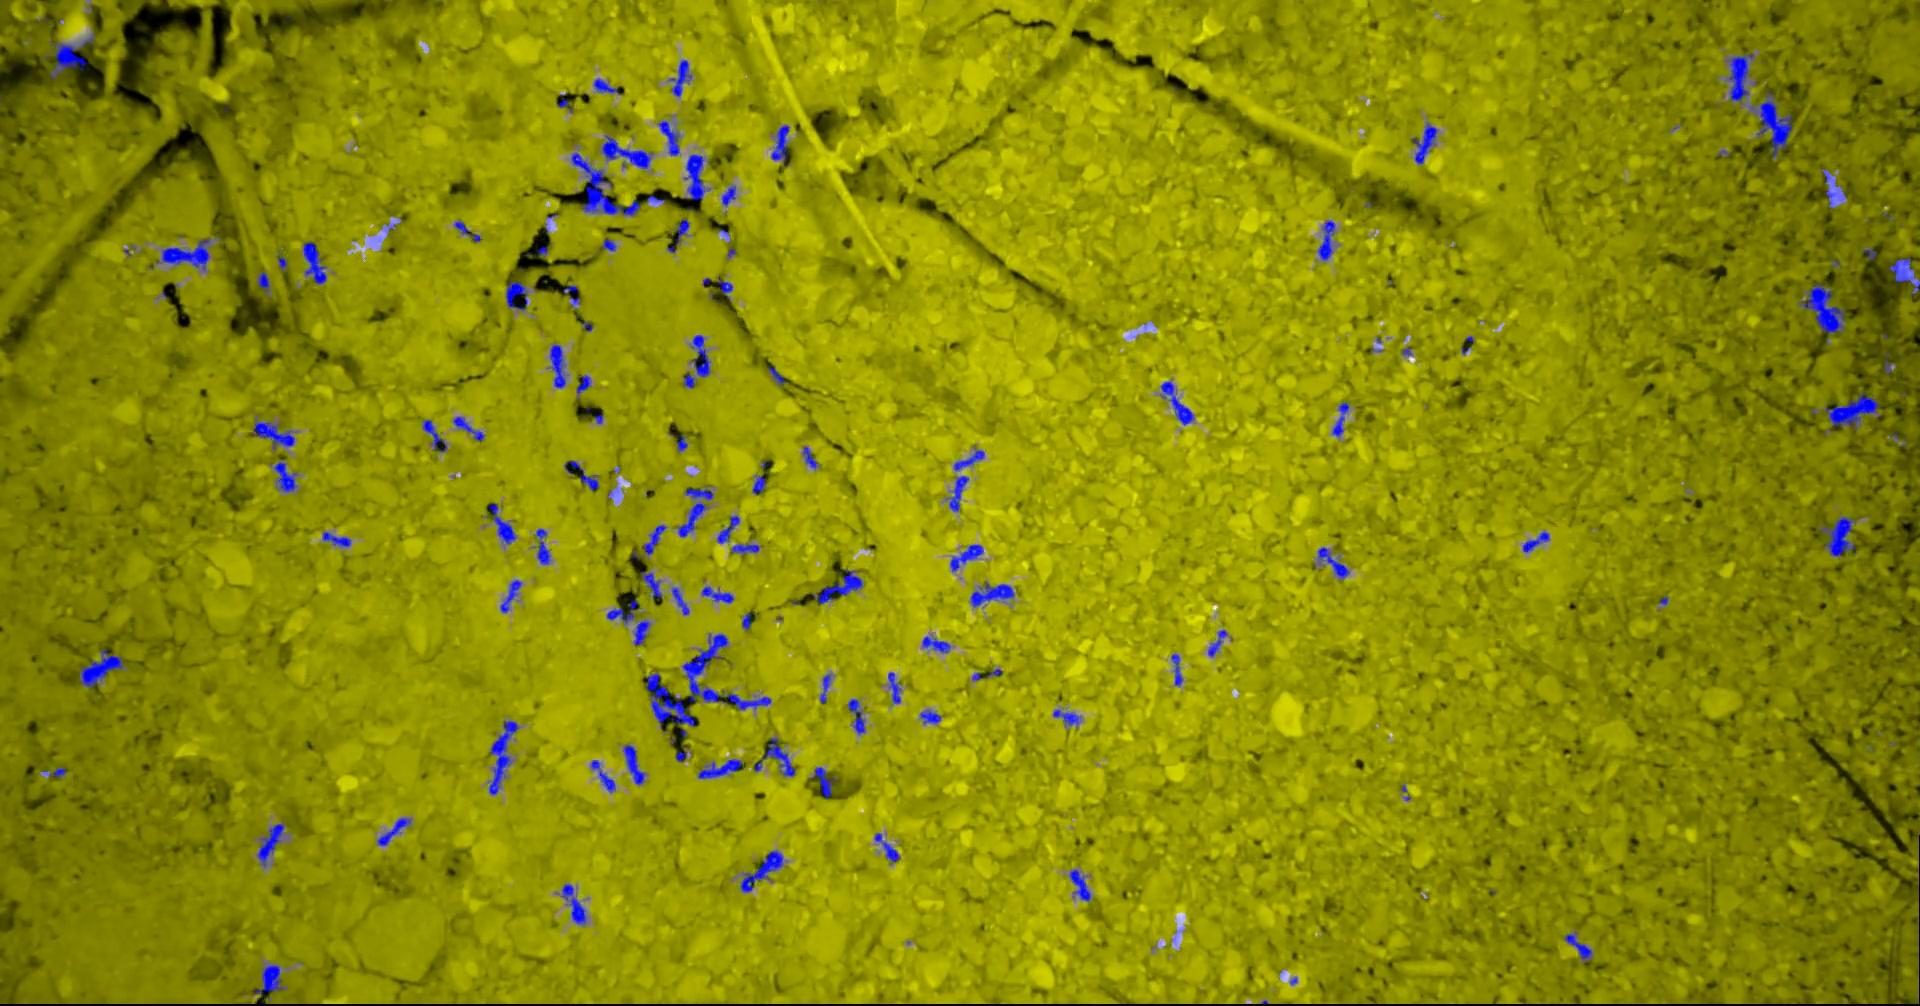ant: (1749, 91, 1792, 158), (1799, 285, 1845, 343), (488, 720, 519, 794), (50, 30, 94, 77), (1823, 392, 1878, 429), (811, 567, 862, 603), (79, 649, 124, 688), (740, 850, 782, 892), (157, 238, 210, 271), (601, 135, 651, 168), (1818, 516, 1855, 556), (1159, 381, 1192, 426), (761, 737, 795, 776), (257, 823, 284, 868), (1727, 53, 1752, 102), (970, 580, 1015, 607), (253, 420, 295, 448), (683, 154, 709, 199), (488, 502, 516, 542), (1888, 257, 1919, 293), (1411, 122, 1437, 163), (564, 460, 598, 490), (1317, 546, 1349, 578), (561, 883, 585, 923), (677, 503, 706, 536), (303, 241, 326, 283), (949, 544, 983, 572), (376, 817, 410, 845), (253, 964, 283, 995), (697, 758, 742, 779), (811, 766, 838, 799), (668, 58, 691, 97), (690, 334, 710, 376), (622, 744, 644, 784), (1563, 932, 1591, 962), (270, 461, 297, 492), (945, 475, 968, 511), (590, 760, 615, 793), (874, 832, 899, 862), (658, 119, 679, 155), (422, 419, 446, 451), (952, 446, 984, 470), (606, 600, 639, 622), (452, 417, 484, 439), (1317, 220, 1335, 260), (549, 344, 565, 387), (499, 579, 521, 612), (1068, 869, 1090, 901), (643, 525, 665, 554), (716, 514, 739, 542), (771, 124, 789, 160), (505, 281, 527, 310), (1331, 401, 1349, 436), (533, 528, 550, 564), (847, 699, 863, 734), (455, 220, 480, 243), (1523, 531, 1549, 553), (640, 570, 662, 597), (1821, 168, 1835, 208), (701, 586, 733, 602), (670, 587, 690, 614), (1208, 629, 1227, 655), (593, 77, 623, 94), (632, 619, 650, 645), (1051, 709, 1079, 725), (321, 531, 350, 546), (922, 636, 950, 652), (1170, 653, 1182, 685), (674, 218, 690, 244), (888, 672, 900, 702), (716, 276, 731, 300), (767, 365, 785, 385), (731, 542, 759, 555), (819, 673, 830, 702), (803, 446, 817, 469), (684, 488, 712, 499), (577, 373, 590, 394), (919, 709, 940, 723), (257, 271, 269, 292), (721, 185, 735, 205), (750, 475, 764, 494), (742, 612, 756, 629), (48, 766, 66, 777), (277, 251, 287, 271), (676, 434, 687, 451), (682, 373, 695, 387), (676, 746, 686, 761), (602, 239, 615, 250)
